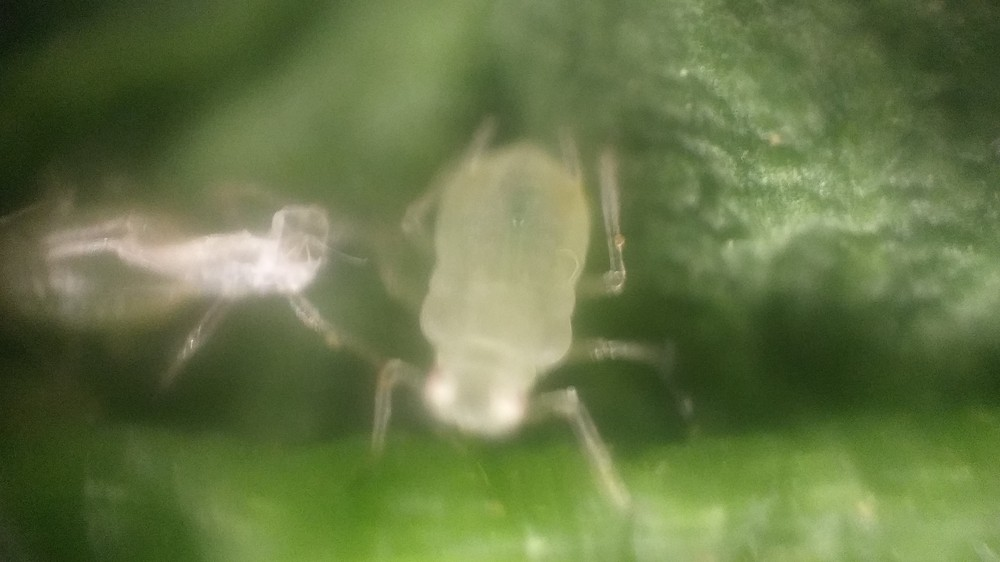Pulgon: (334, 119, 714, 517)
